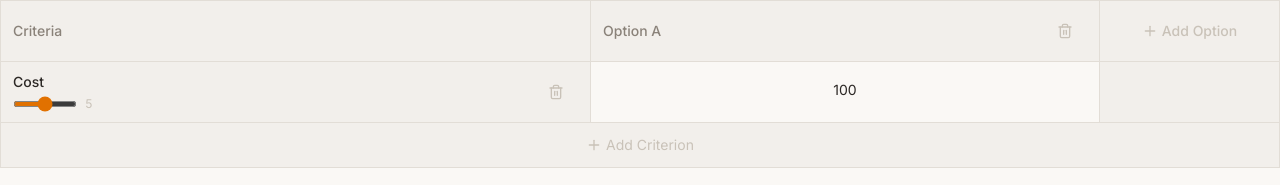
Test: ComparisonTable › Cell Editing › cancels edit on Escape
Click the cell "100" at (845, 92), box [591,62,1100,122]
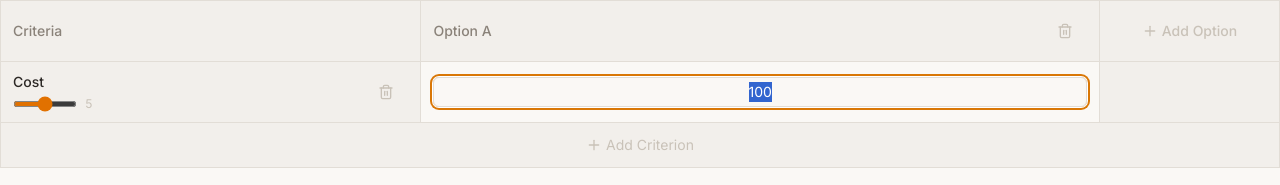
Type "999" into the field named "value for option a" at (760, 92), box [434,77,1087,107]
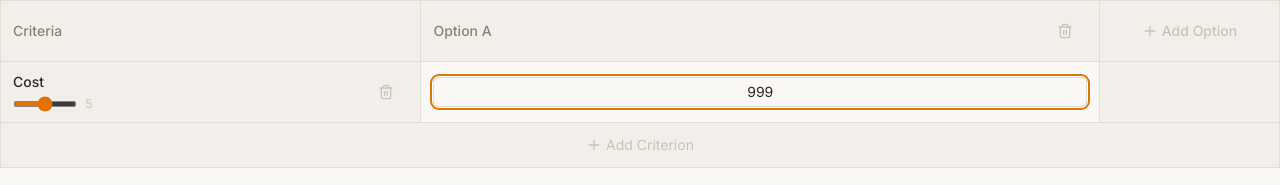
Press Escape
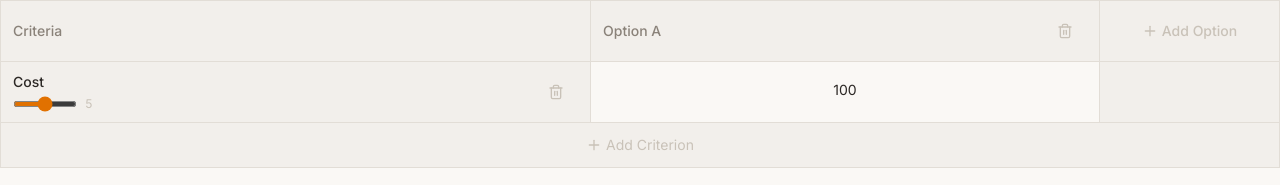
Now the text "100" is shown, box [833,81,857,98]
